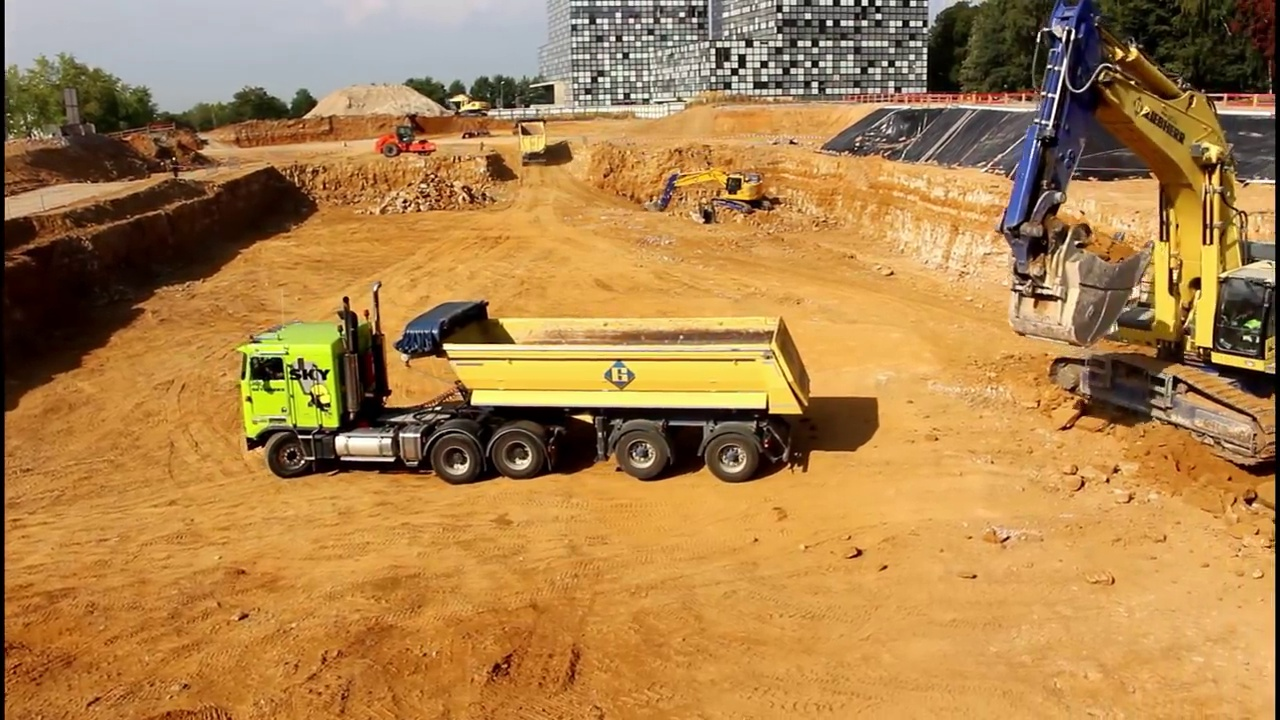compactor: (377, 117, 442, 161)
excavator: (998, 3, 1280, 474), (646, 161, 785, 221), (446, 88, 491, 123)
truck: (230, 276, 823, 493), (514, 113, 559, 171)
